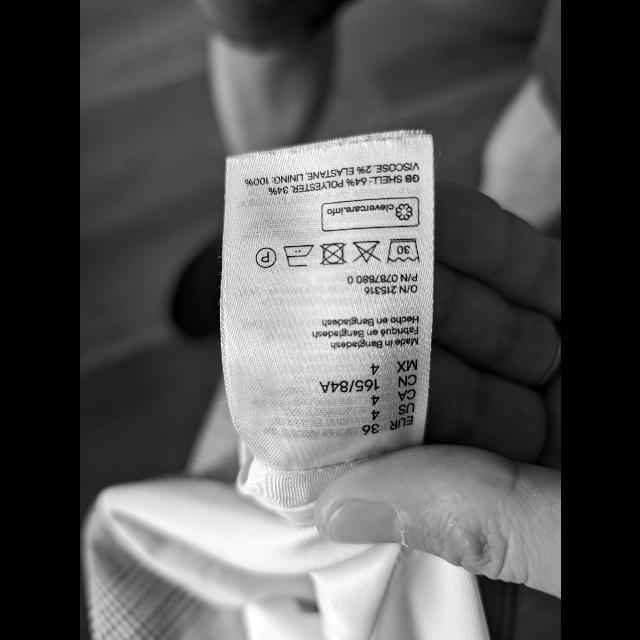30C: (384, 237, 422, 266)
DN_bleach: (351, 238, 384, 266)
DN_tumble_dry: (317, 241, 348, 267)
iron_medium: (282, 244, 314, 268)
normal_dry_clean_solvents: (253, 246, 277, 270)
